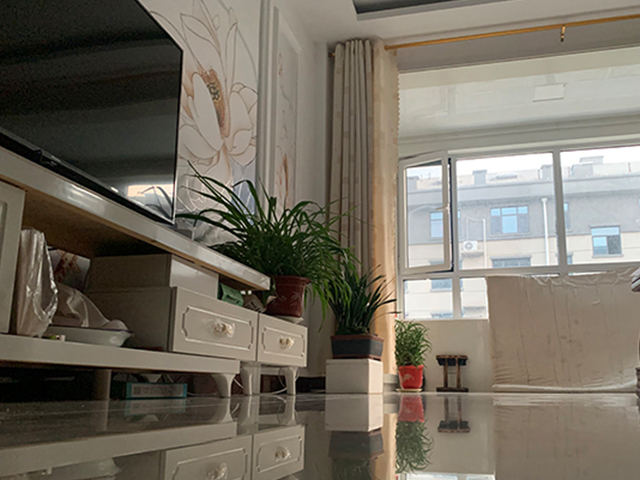cabinet: (1, 147, 308, 398)
curtain: (331, 36, 401, 374)
stool: (435, 353, 470, 394)
